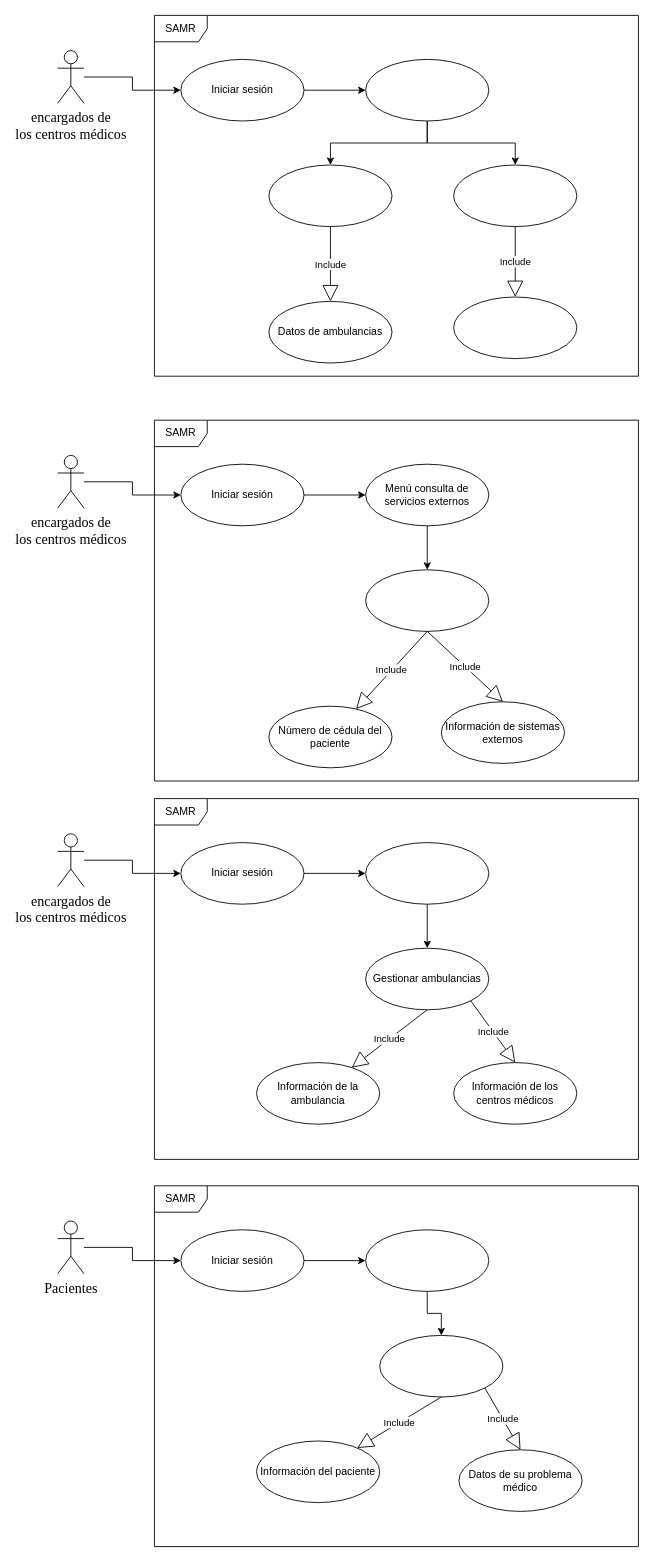
This 654x1562 diagram has some shape labels left out. The shapes that lost their labels are listed below. From the top down, each one's box as (x1, y1, x2, y2) in pixels, then its label:
(365, 59, 489, 121): Menú Juicio de tratamientos de emergencias
(268, 164, 392, 227): Solicitar ambulancia
(453, 164, 577, 227): Solicitar teleconsulta con un médico asesor
(453, 296, 577, 359): Datos de médicos disponibles
(365, 569, 489, 631): Consultar datos de pacientes en sistemas externos
(365, 842, 489, 904): Menú Gestión de ambulancias
(365, 1229, 489, 1291): Menú solicitudes de ayuda médica
(379, 1335, 503, 1397): Enviar solicitud de ayuda médica
